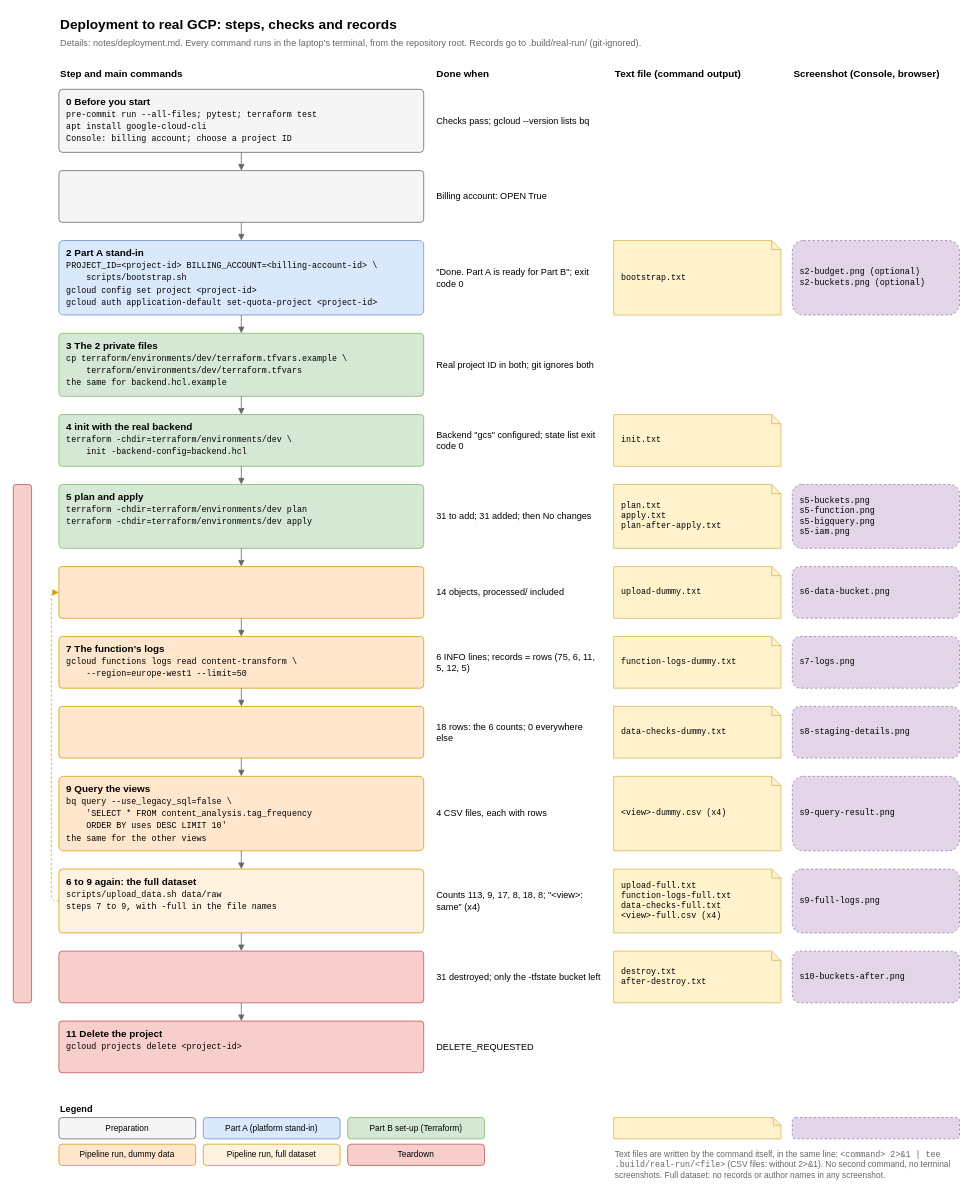
This 973x1202 diagram has some shape labels left out. The box of each missing label's shape, as (x1, y1, x2, y2) in pixels:
1 Log in gcloud auth login gcloud auth application-default login: (58, 170, 424, 222)
10 destroy terraform -chdir=terraform/environments/dev destroy: (58, 950, 424, 1003)
6 Upload the dummy data scripts/upload_data.sh: (58, 566, 424, 618)
8 Data checks bq query --use_legacy_sql=false < scripts/data_checks.sql: (58, 706, 424, 758)
Part B exists: costs money: (13, 484, 32, 1003)
Screenshot: Print Screen, PNG: (792, 1117, 960, 1139)
Text file: the command's own output: (613, 1117, 781, 1139)
